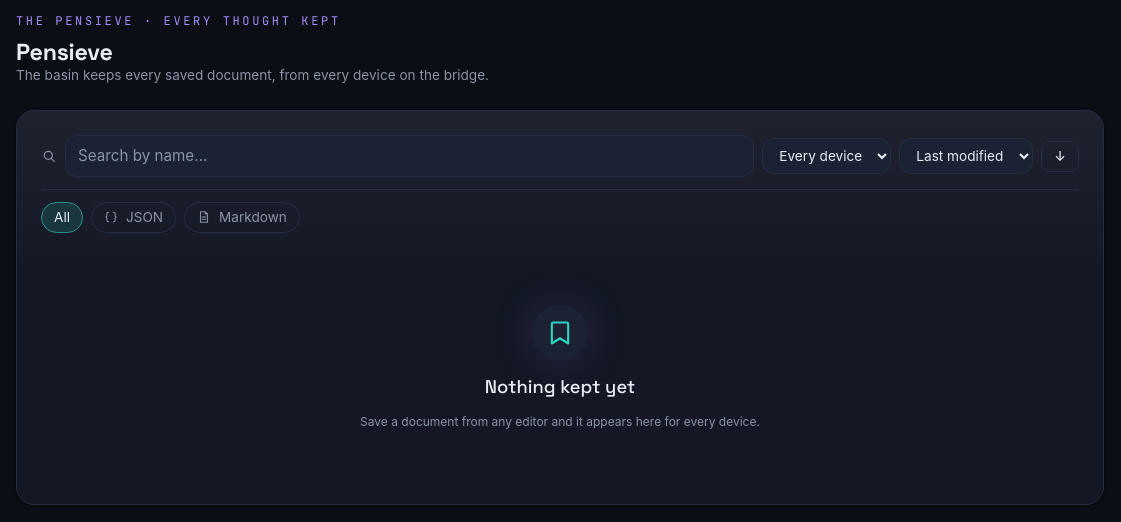
Test: PensievePage › shows an empty state that tells filtering apart from an empty basin
Check: the text with class "empty__title" reads "Nothing kept yet", box [485,375,635,398]
Click the button with class "lib-chip" showing "Markdown" at (242, 217), box [184,202,300,233]
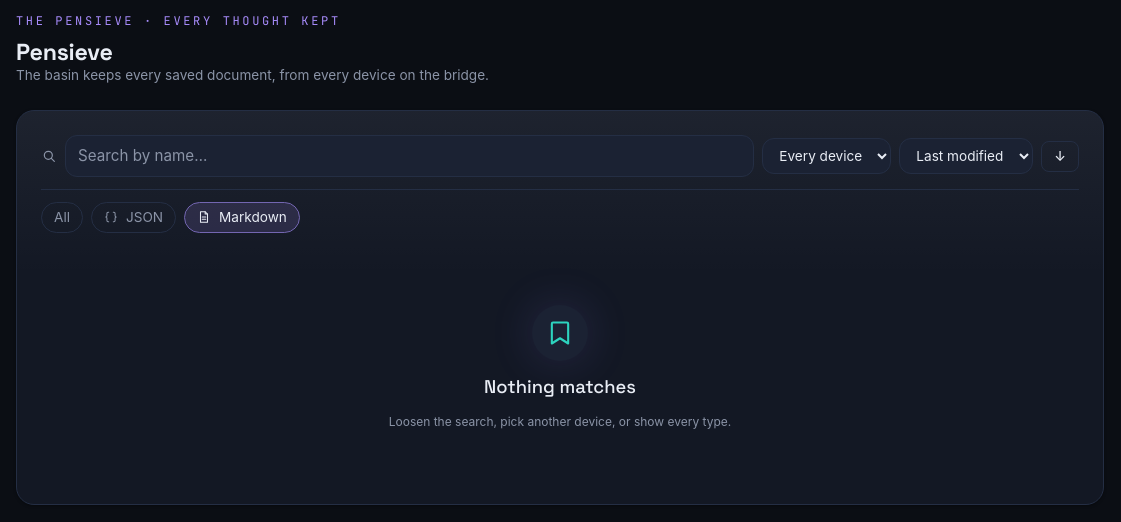
Check: the text with class "empty__title" reads "Nothing matches", box [484,375,636,398]
